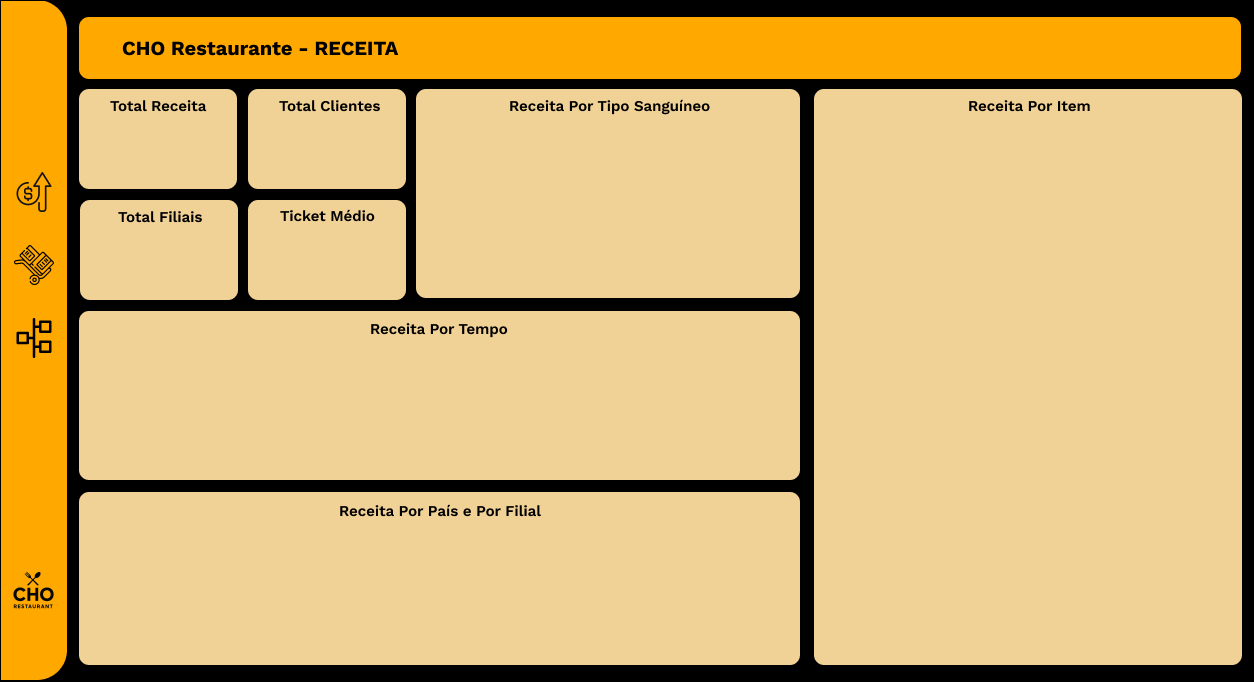

Layout of this report page (visuals, bound fields, positions):
{"tool":"powerbi","page":{"name":"Receita","canvas":[1280,720],"ordinal":0},"visuals":[{"type":"actionButton","box":[0,241.9,69.8,75.6],"z":0},{"type":"actionButton","box":[0,317.4,69.8,75.6],"z":1000},{"type":"card","fields":{"Values":["Sum(receitafato. itemprecovenda )"]},"box":[95.3,110.5,131.4,76.7],"z":2000},{"type":"card","fields":{"Values":["Count(clientedimension.              clientekey              )"]},"box":[265.1,110.5,131.4,76.7],"z":3000},{"type":"card","fields":{"Values":["Count(filialdimension.filialkey)"]},"box":[95.3,226.7,131.4,76.7],"z":4000},{"type":"card","fields":{"Values":["Avg(receitafato. itemprecovenda )"]},"box":[266.3,226.7,131.4,76.7],"z":5000},{"type":"columnChart","fields":{"Y":["Sum(receitafato.itemprecovenda)"],"Category":["calendardimension.datacompleta.Variation.Hierarquia de datas.Ano","calendardimension.datacompleta.Variation.Hierarquia de datas.Mês"]},"box":[98.8,326.7,686,179.1],"z":6000},{"type":"clusteredColumnChart","fields":{"Y":["Sum(receitafato. itemprecovenda )"],"Category":["filialdimension.paisnome","filialdimension.filialid"]},"box":[98.8,527.9,717.4,167.4],"z":7000},{"type":"slicer","fields":{"Values":["calendardimension. datacompleta "]},"box":[448.8,20.9,247.7,67.4],"z":8000},{"type":"slicer","fields":{"Values":["filialdimension.paisnome","filialdimension.filialid"]},"box":[688.4,20.9,170.9,72.1],"z":9000},{"type":"barChart","fields":{"Category":["itemdimension.itemnome"],"Y":["Sum(receitafato.itemprecovenda)"]},"box":[834.9,124.4,431.4,570.9],"z":10000},{"type":"pieChart","fields":{"Category":["clientedimension.clientetiposang"],"Y":["Sum(receitafato.itemprecovenda)"]},"box":[448.8,110.5,355.8,207],"z":11000}]}

Visuals, with their boxes in screenshot pixels (x1, y1, x2, y2):
actionButton: bbox=(0, 207, 37, 283)
actionButton: bbox=(0, 283, 37, 359)
card - Sum(receitafato. itemprecovenda ): bbox=(63, 75, 195, 152)
card - Count(clientedimension.              clientekey              ): bbox=(234, 75, 366, 152)
card - Count(filialdimension.filialkey): bbox=(63, 192, 195, 269)
card - Avg(receitafato. itemprecovenda ): bbox=(235, 192, 367, 269)
columnChart - Sum(receitafato.itemprecovenda) x calendardimension.datacompleta.Variation.Hierarquia de datas.Ano: bbox=(67, 292, 756, 472)
clusteredColumnChart - Sum(receitafato. itemprecovenda ) x filialdimension.paisnome: bbox=(67, 495, 787, 663)
slicer - calendardimension. datacompleta : bbox=(418, 0, 667, 53)
slicer - filialdimension.paisnome x filialdimension.filialid: bbox=(659, 0, 831, 58)
barChart - itemdimension.itemnome x Sum(receitafato.itemprecovenda): bbox=(806, 89, 1240, 663)
pieChart - clientedimension.clientetiposang x Sum(receitafato.itemprecovenda): bbox=(418, 75, 776, 283)
